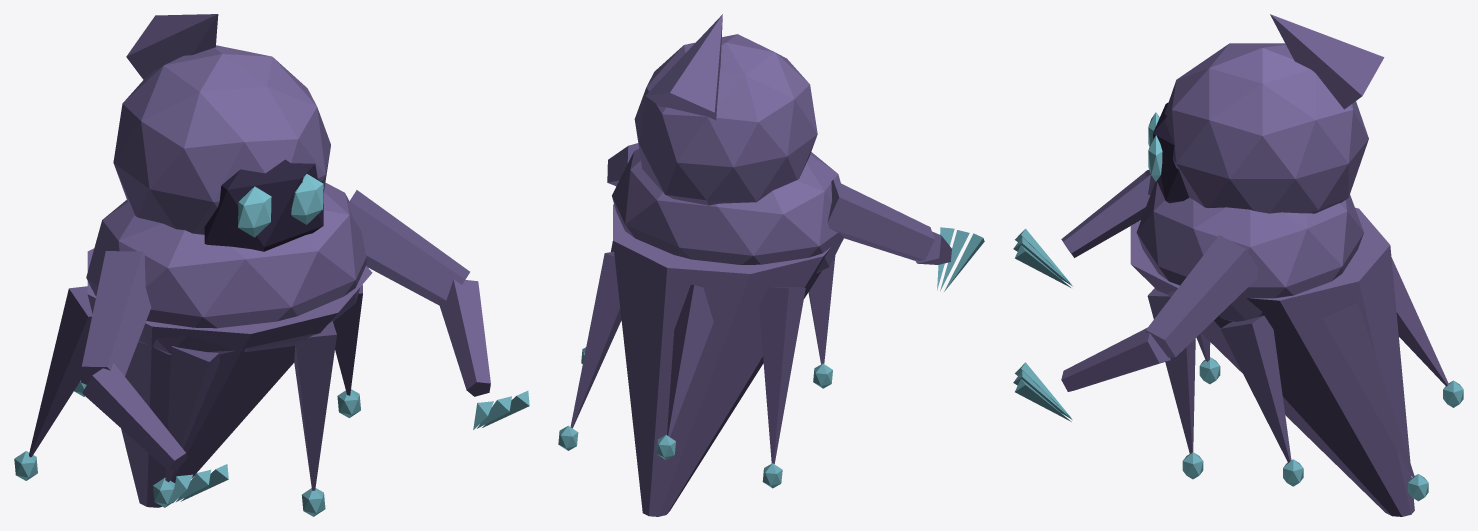
File: enemy_wraith.glb
3 renders of one model, left to right at view 1: azimuth 30°, elevation 25°; view 2: azimuth 150°, elevation 25°; view 3: azimuth 270°, elevation 25°, orthographic. The views are drawn at different scales.
Parts seen in each view (by area): view 1: enemy_wraith; view 2: enemy_wraith; view 3: enemy_wraith.
Part boxes in pixels (x1,y1,x2,y2): enemy_wraith: (14,14,529,516); enemy_wraith: (558,14,984,516); enemy_wraith: (1013,14,1463,516).
Bounding box in the file's own units: 1.36 × 1.79 × 1.48.
